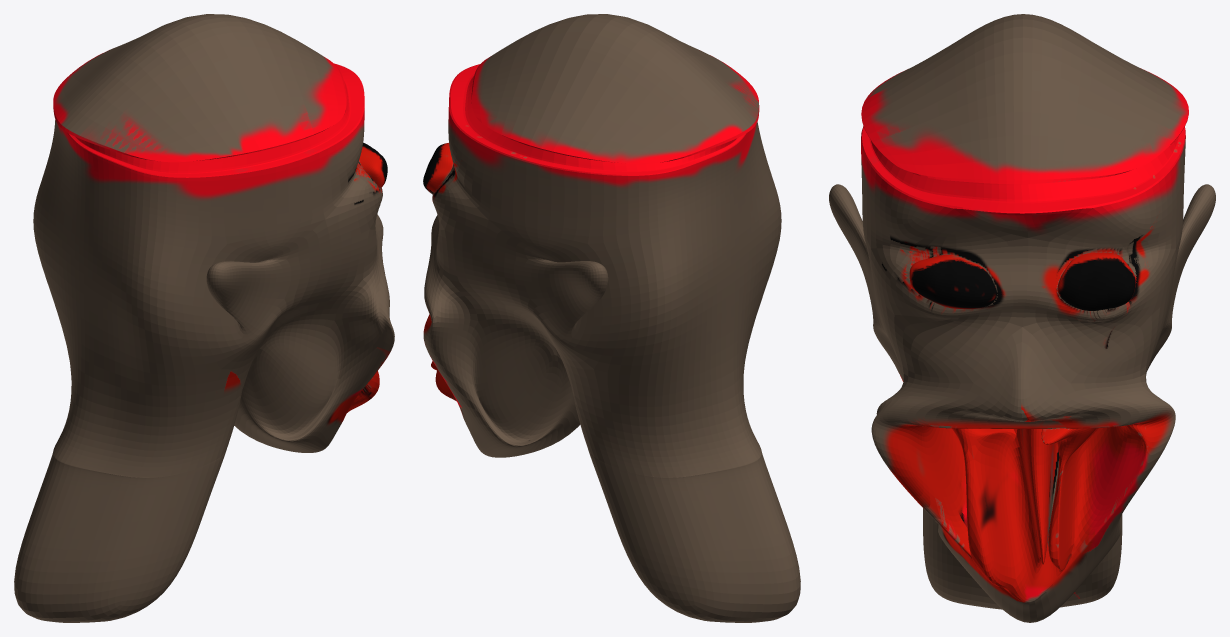
File: Monster_OBJ.fbx
3 views of the same model, side by side, from view 1: azimuth 30°, elevation 25°; view 2: azimuth 150°, elevation 25°; view 3: azimuth 270°, elevation 25° (orthographic). The views are drawn at different scales.
Parts seen in each view (by area): view 1: Cube; view 2: Cube; view 3: Cube.
Boxes of the visible parts, x1=… form: Cube: x1=14, y1=14, x2=394, y2=622; Cube: x1=423, y1=14, x2=800, y2=622; Cube: x1=829, y1=14, x2=1215, y2=622.
Bounding box in the file's own units: 283 × 417 × 226.
